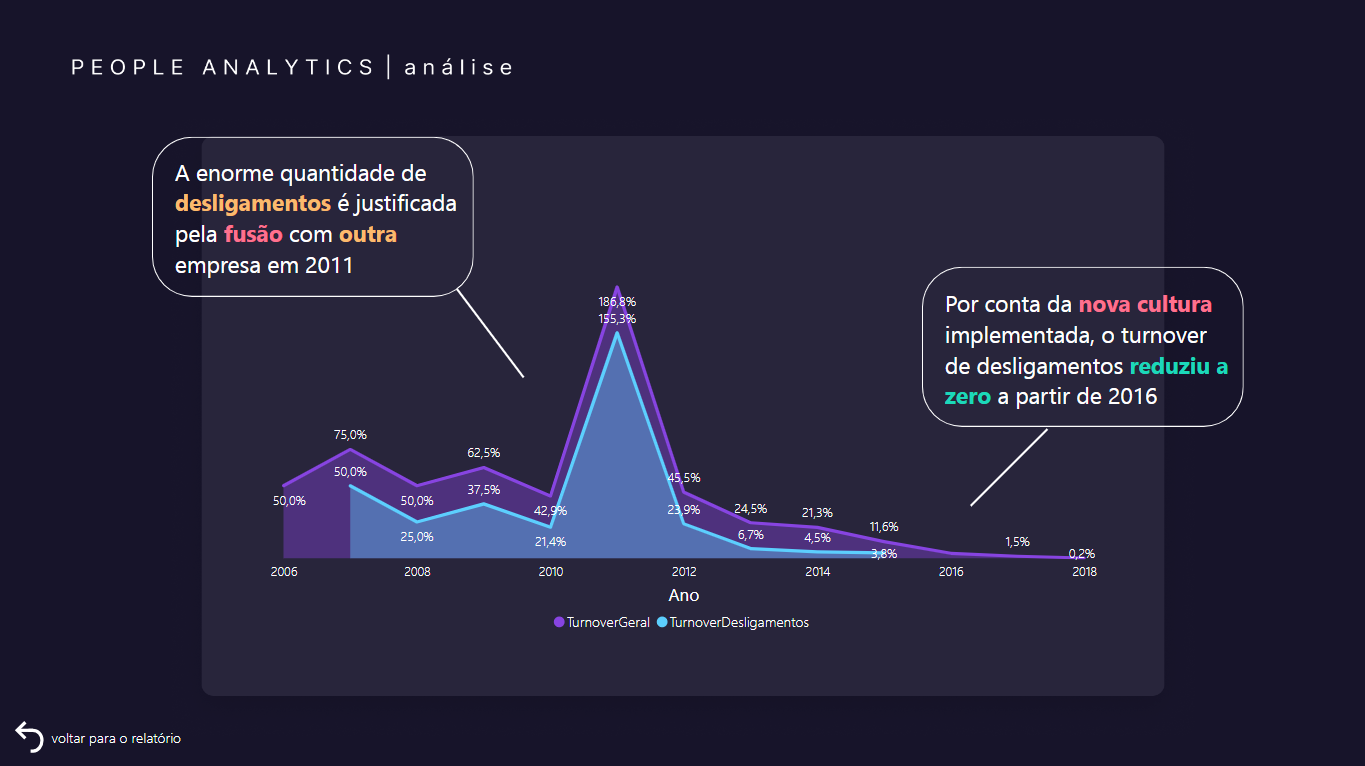

Layout of this report page (visuals, bound fields, positions):
{"tool":"powerbi","page":{"name":"apresentação 2","canvas":[1280,720],"ordinal":3},"visuals":[{"type":"areaChart","title":"Turnover","fields":{"Category":["Tb_contratacoes.DataContratacao.Variation.Hierarquia de datas.Ano"],"Y":["Medidas.TurnoverGeral","Medidas.TurnoverDesligamentos"]},"box":[249.9,237.3,781.7,362.9],"z":0},{"type":"textbox","box":[161.4,142.8,283.4,145.9],"z":1},{"type":"shape","box":[144.7,129.3,300.1,149.4],"z":2},{"type":"shape","box":[420.2,270.4,80.8,84.4],"z":3},{"type":"textbox","box":[879.5,264.7,283.4,145.9],"z":4},{"type":"shape","box":[862.9,251.2,300.1,149.4],"z":5},{"type":"shape","box":[867.9,400.6,153.2,73.6],"z":6},{"type":"actionButton","box":[10.9,669.3,165.2,39.8],"z":7}]}

Visuals, with their boxes in screenshot pixels (x1, y1, x2, y2), scaled from the page's 1280x720 canvas onto the 1365x766 screenshot:
"Turnover" areaChart: BBox(266, 252, 1100, 639)
textbox: BBox(172, 152, 474, 307)
shape: BBox(154, 138, 474, 297)
shape: BBox(448, 288, 534, 377)
textbox: BBox(938, 282, 1240, 437)
shape: BBox(920, 267, 1240, 426)
shape: BBox(926, 426, 1089, 504)
actionButton: BBox(12, 712, 188, 754)
